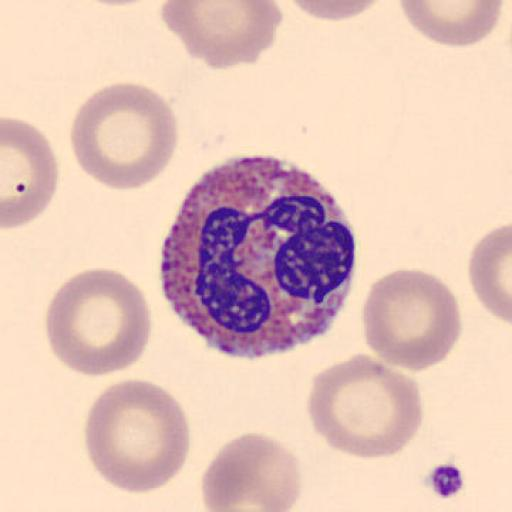RBC: (83, 377, 193, 496), (306, 352, 425, 460), (68, 79, 179, 192), (44, 266, 154, 379), (360, 266, 462, 372), (161, 0, 284, 71), (200, 431, 304, 511), (2, 115, 58, 231), (397, 0, 505, 48), (468, 221, 512, 328), (286, 0, 387, 21), (75, 0, 160, 6)
WBC: (159, 155, 359, 358)
